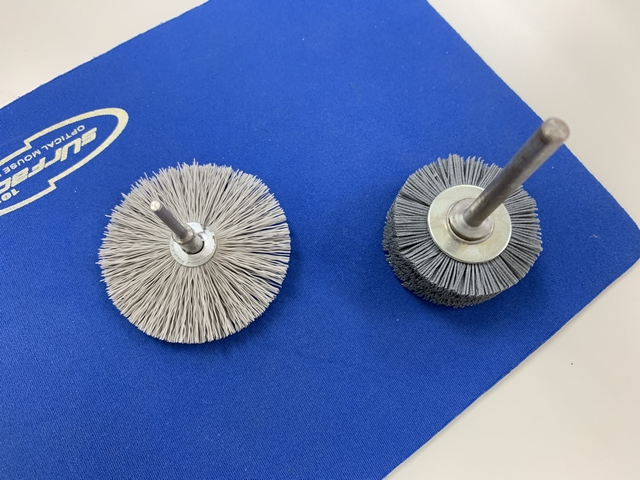TOOL: (71, 153, 297, 359), (92, 161, 295, 344)
Wheel Brush: (381, 102, 572, 324), (391, 108, 558, 316)
